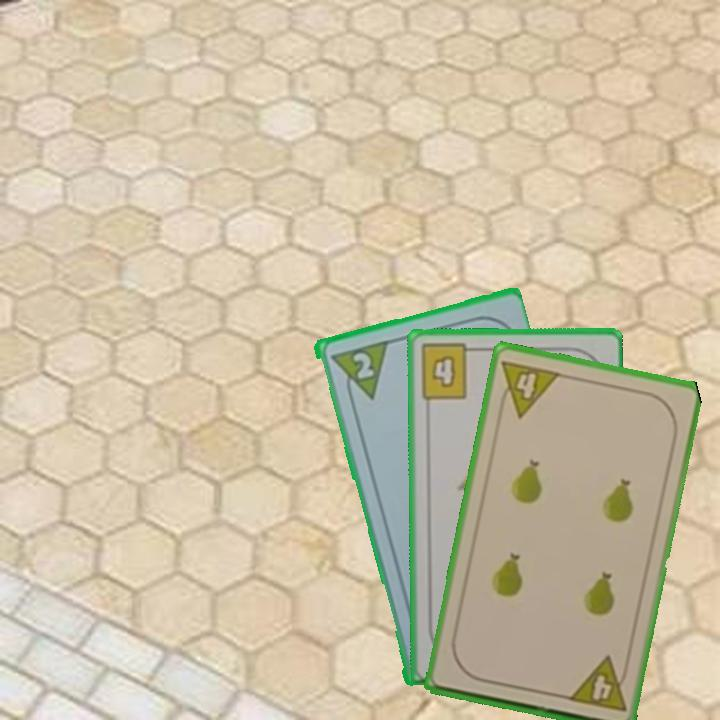2p: (348, 348, 376, 382)
4b: (416, 341, 480, 402)
4p: (494, 356, 563, 420), (564, 653, 632, 715)
